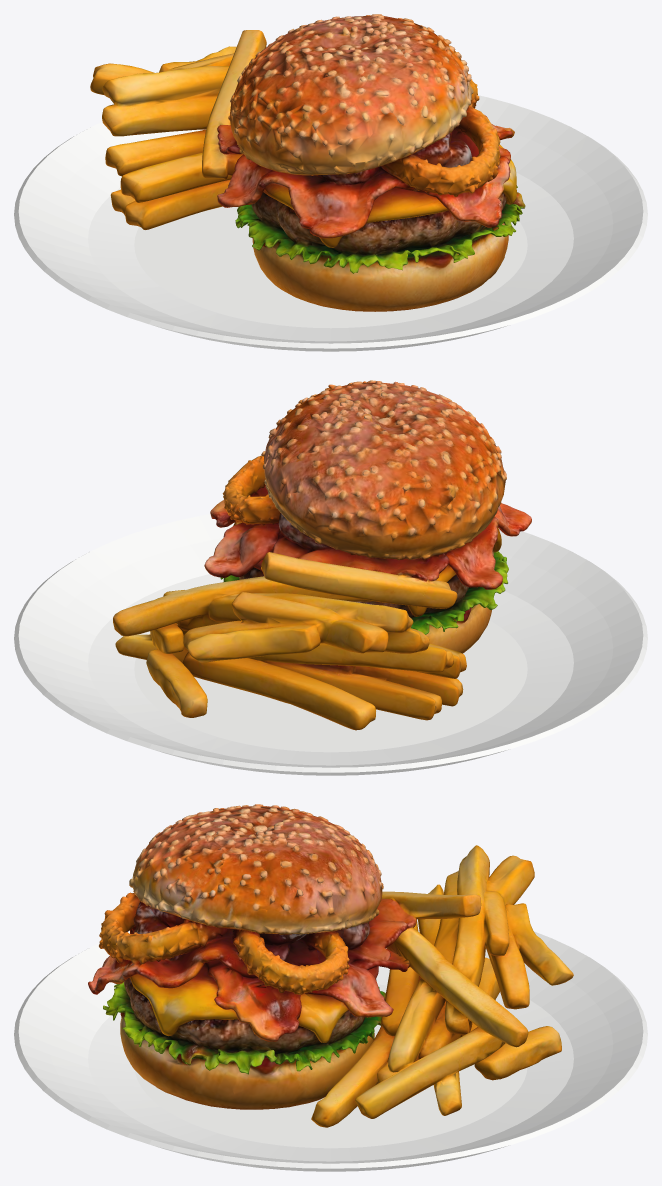
Rendered from hamburguesa_100.glb.
3 views of the same model, one above another, from view 1: azimuth 30°, elevation 25°; view 2: azimuth 150°, elevation 25°; view 3: azimuth 270°, elevation 25° (orthographic).
Visible parts, largest first — view 1: comida, plato; view 2: comida, plato; view 3: comida, plato.
Part boxes in pixels (x1,y1,x2,y2): comida: (90,14,525,311); plato: (14,95,647,351); comida: (113,380,531,730); plato: (14,514,647,775); comida: (88,804,573,1127); plato: (14,919,647,1171).
Bounding box in the file's own units: 0.274 × 0.1197 × 0.274.
2 materials, 1 textured.
